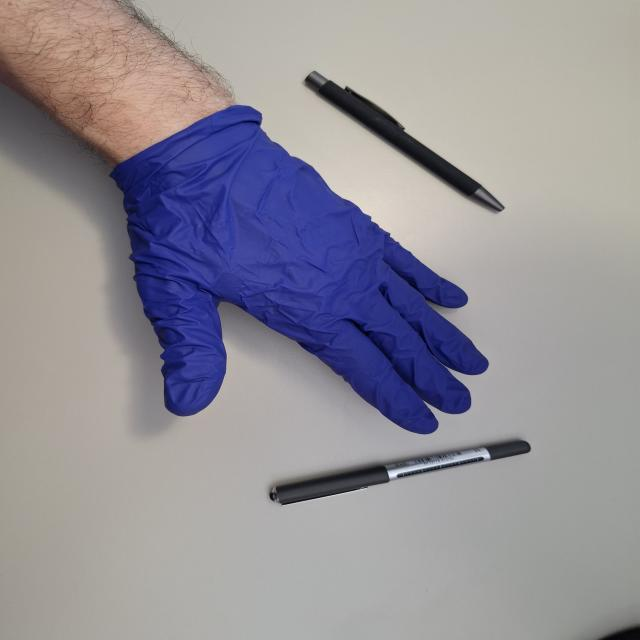glove_on: (92, 101, 496, 436)
